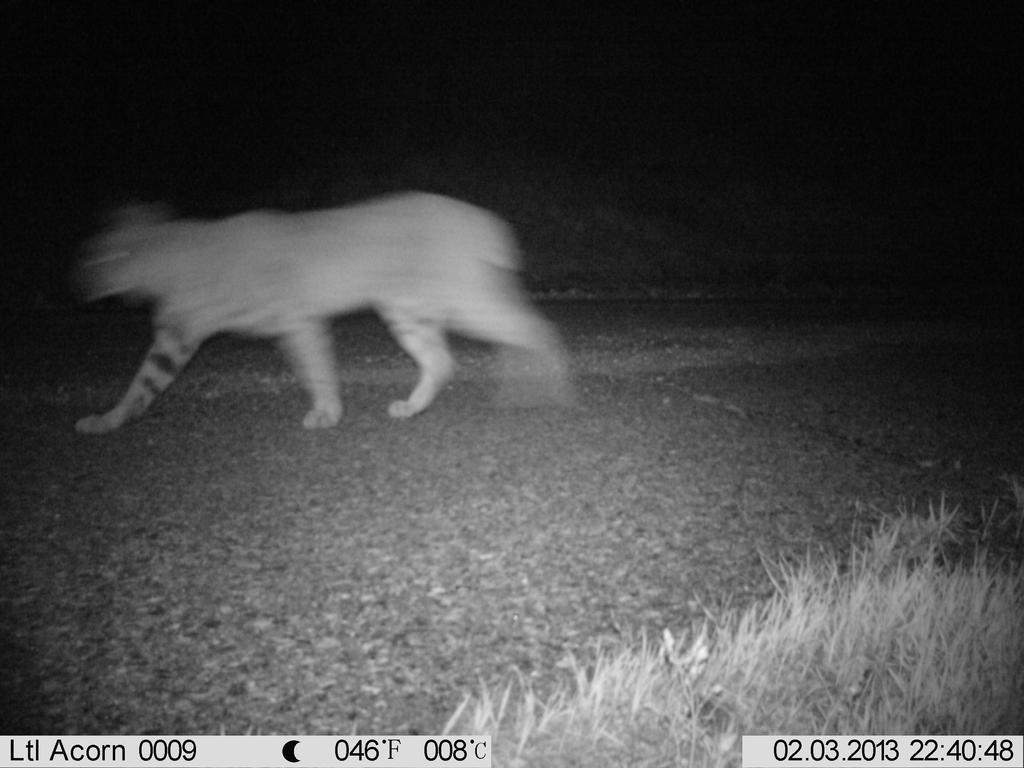bobcat: (55, 180, 584, 442)
